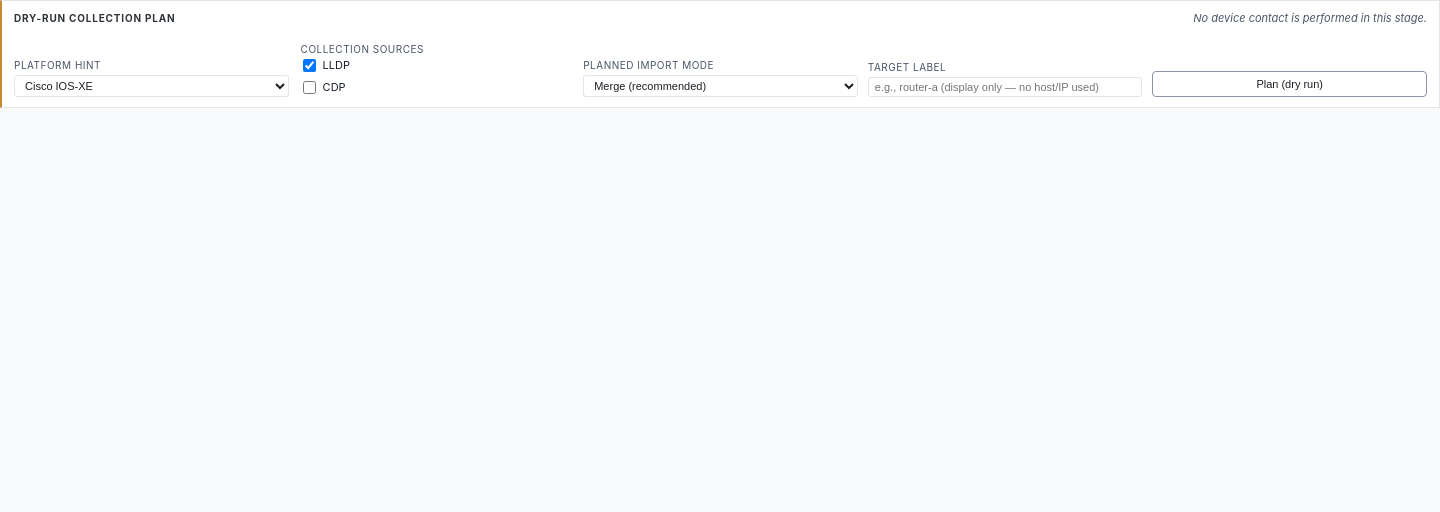
Scenario: LiveCollectionDryRunPanel — surface › renders read-only badges and command list when plan returns commands
Click the button with test id "tm-live-collection-plan-button": (1290, 84) [1152, 71, 1427, 97]
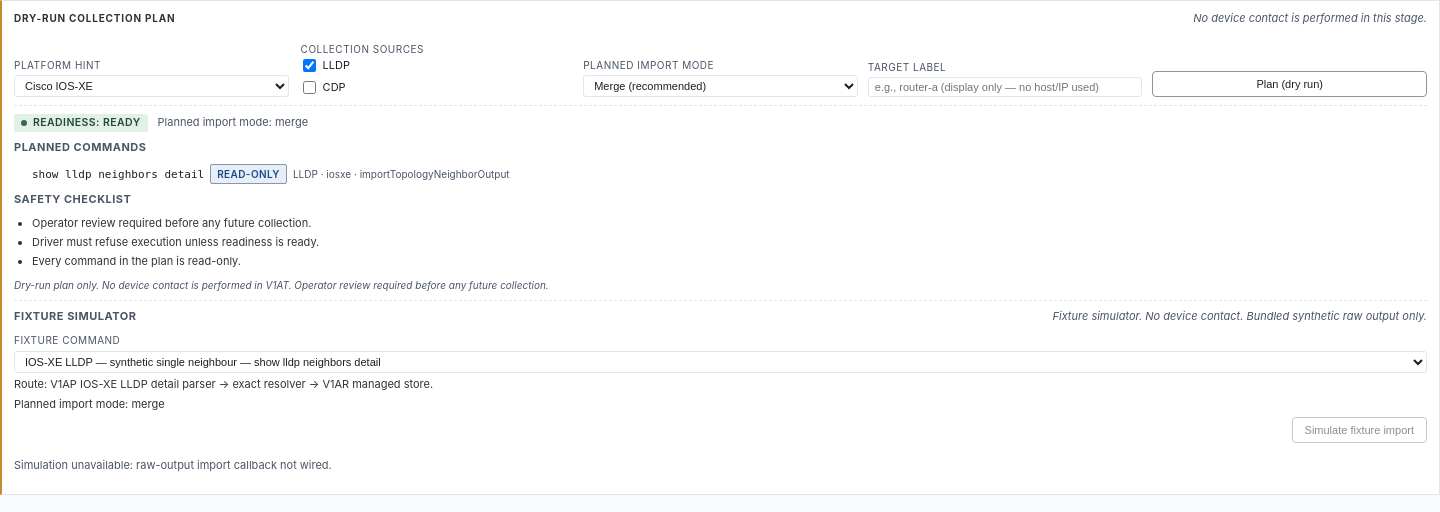
Check: the element with test id "tm-live-collection-result" is shown
Check: the text with test id "tm-live-collection-readiness" shows "ready", box [103, 116, 140, 129]
Check: the list item with test id "tm-live-collection-command-0" shows "show lldp neighbors detail", box [32, 168, 204, 181]
